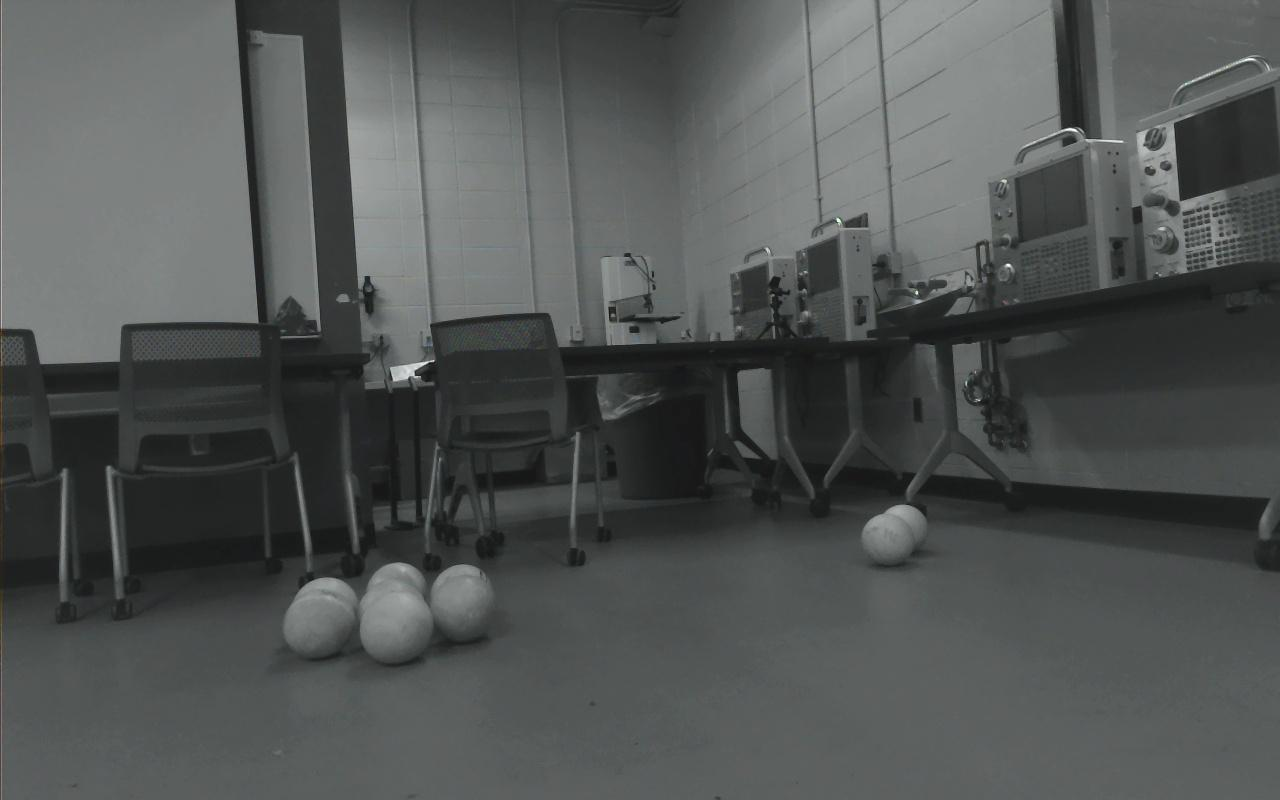Fuel: (360, 591, 433, 664), (283, 590, 355, 660), (430, 572, 495, 643), (358, 577, 426, 639), (292, 577, 358, 636), (429, 564, 492, 617), (365, 562, 428, 611), (860, 513, 914, 567), (879, 504, 928, 553)
